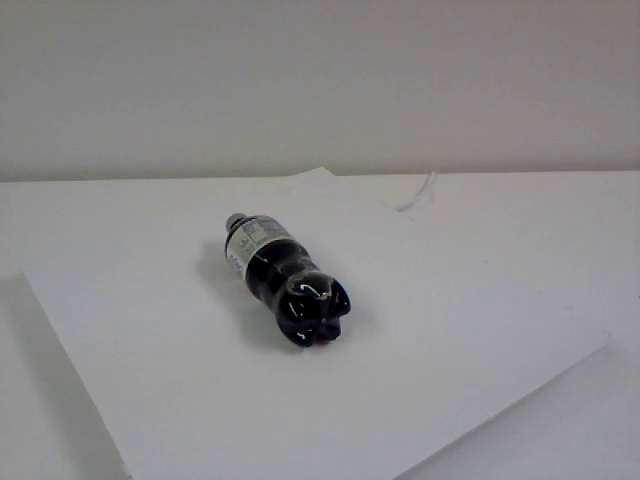botolplastik: (223, 213, 354, 348)
